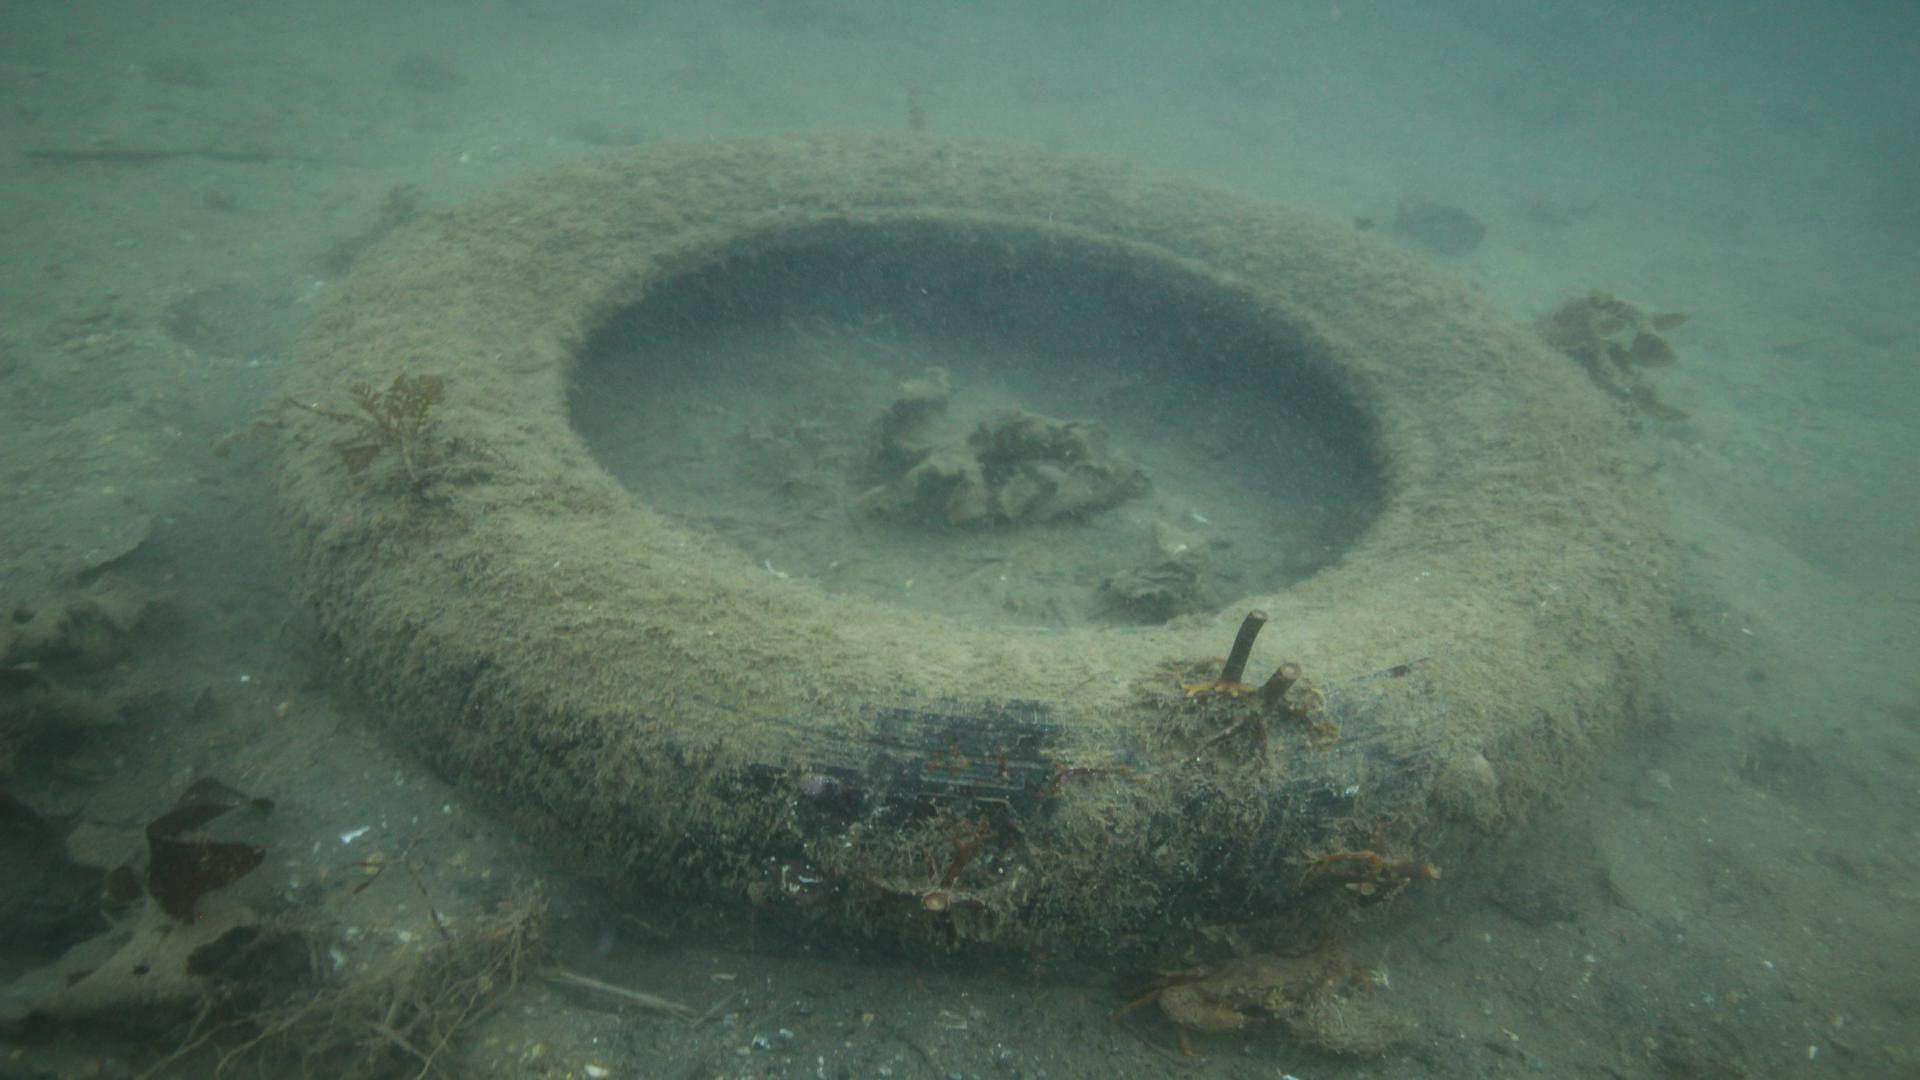tire: (272, 128, 1667, 980)
